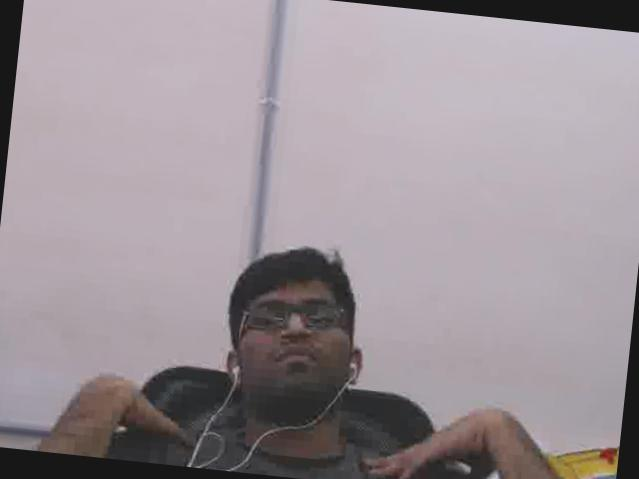bosan: (238, 271, 352, 400)
